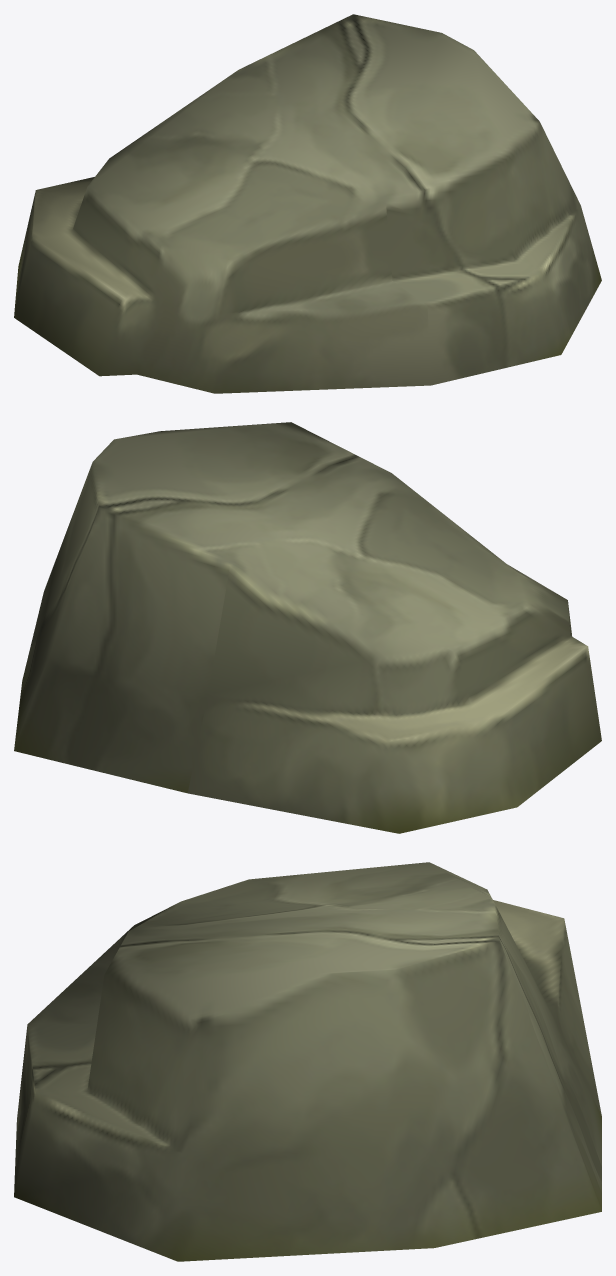
File: ROK0110021.fbx
3 views of the same model, one above another, from view 1: azimuth 30°, elevation 25°; view 2: azimuth 150°, elevation 25°; view 3: azimuth 270°, elevation 25° (orthographic). The views are drawn at different scales.
Visible parts, largest first — view 1: smROK0110021; view 2: smROK0110021; view 3: smROK0110021.
Boxes of the visible parts, bbox=[...] form: smROK0110021: bbox=[14, 14, 601, 393]; smROK0110021: bbox=[14, 422, 601, 833]; smROK0110021: bbox=[14, 862, 601, 1261].
Size of the model in its own units: 214 by 85.83 by 184.
Materials: 1 (1 with a texture image).
